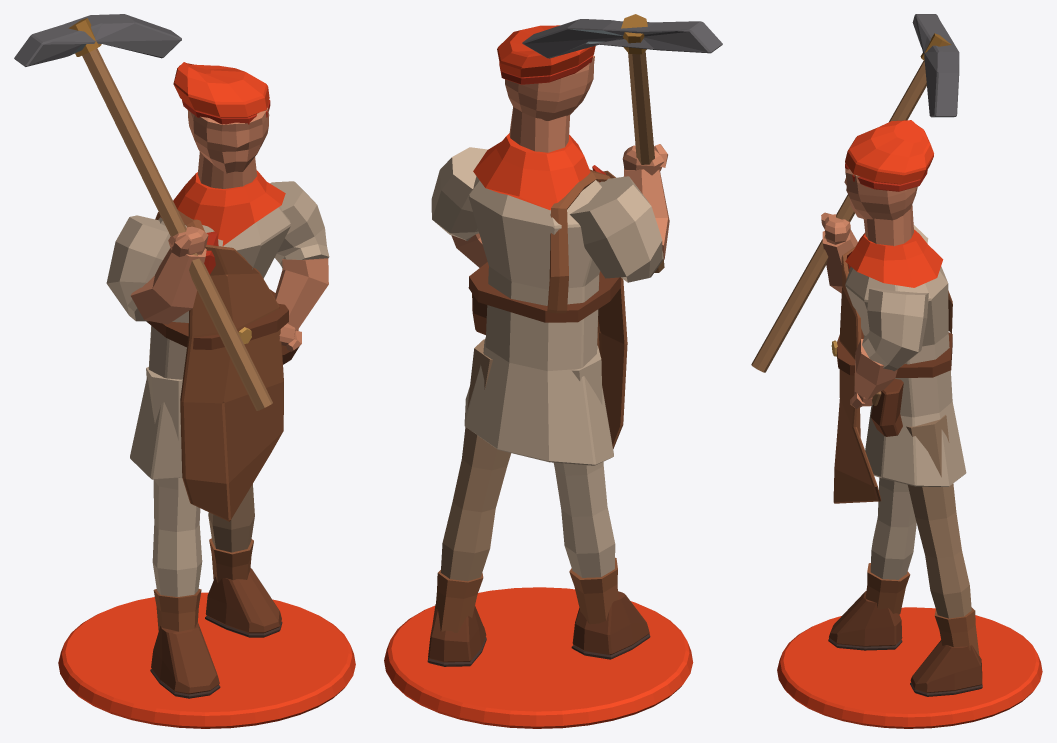
Rendered from worker.glb.
3 views of the same model, side by side, from view 1: azimuth 30°, elevation 25°; view 2: azimuth 150°, elevation 25°; view 3: azimuth 270°, elevation 25° (orthographic). The views are drawn at different scales.
Visible parts, largest first — view 1: Worker; view 2: Worker; view 3: Worker.
Part boxes in pixels (x1=…): Worker: x1=14, y1=14, x2=355, y2=728; Worker: x1=384, y1=14, x2=722, y2=728; Worker: x1=751, y1=14, x2=1042, y2=728.
Bounding box in the file's own units: 0.8977 × 1.84 × 0.8224.
